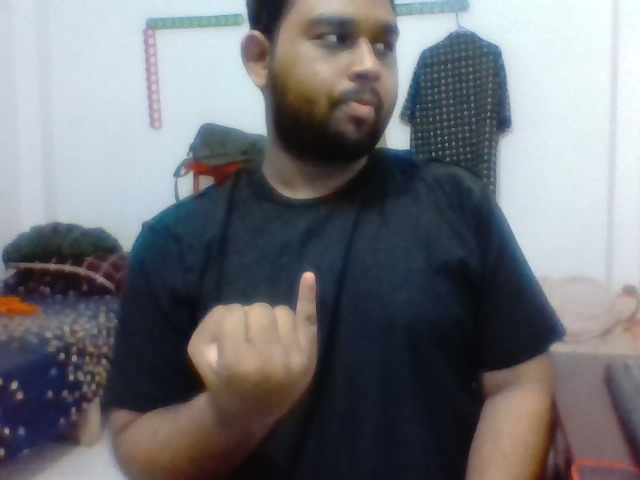I: (182, 259, 335, 426)
